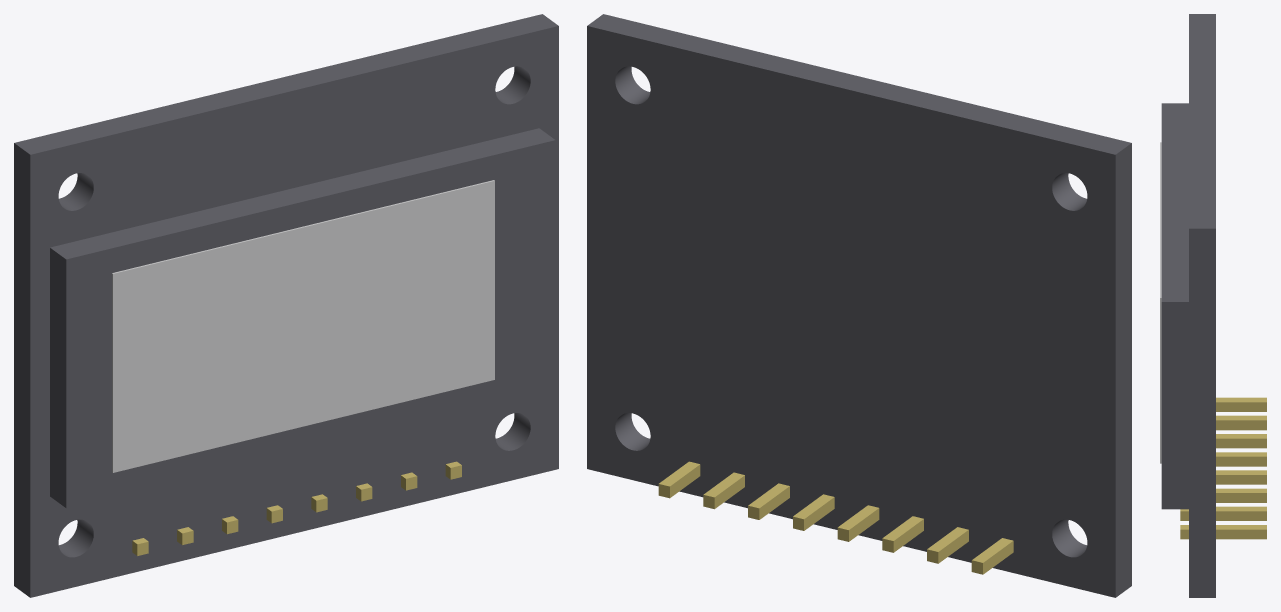
File: msp0961.glb
The picture shows the model from 3 angles, left to right: view 1: azimuth 30°, elevation 25°; view 2: azimuth 150°, elevation 25°; view 3: azimuth 270°, elevation 25°; orthographic projection. The views are drawn at different scales.
Visible parts, largest first — view 1: extra, housing, pins; view 2: extra, pins; view 3: extra, pins, housing.
Boxes of the visible parts, bbox=[...] form: extra: bbox=[14, 14, 558, 597]; housing: bbox=[112, 180, 494, 472]; pins: bbox=[132, 461, 461, 555]; extra: bbox=[587, 14, 1131, 597]; pins: bbox=[658, 461, 1013, 574]; extra: bbox=[1161, 14, 1215, 597]; pins: bbox=[1180, 397, 1266, 539]; housing: bbox=[1160, 142, 1161, 463].
Size of the model in its own units: 30 by 24.04 by 6.3.
